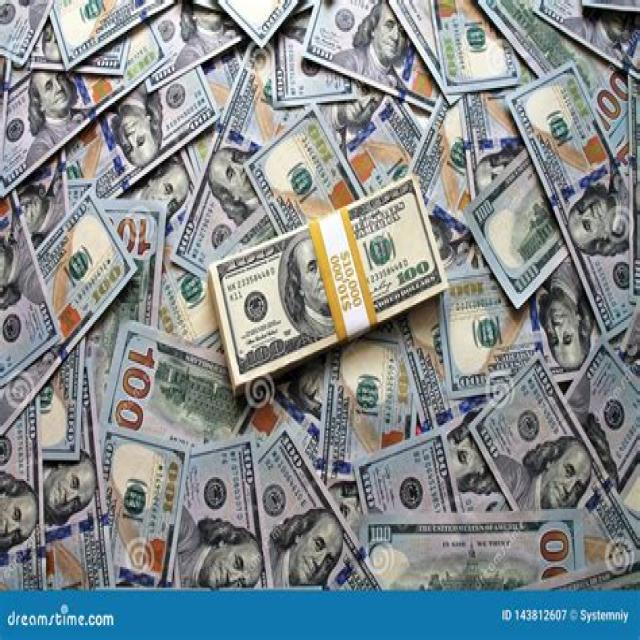Hundred: (215, 175, 447, 384), (511, 60, 640, 332), (477, 357, 640, 571), (0, 198, 136, 438), (0, 0, 166, 195), (180, 37, 306, 285), (66, 60, 221, 200), (259, 431, 392, 589), (441, 262, 602, 392), (105, 318, 252, 458), (35, 360, 115, 588), (363, 512, 585, 588), (464, 151, 568, 305), (322, 334, 416, 500), (304, 0, 441, 110), (96, 429, 190, 588), (171, 442, 273, 588), (0, 192, 56, 380), (0, 392, 41, 586), (432, 0, 509, 95)
